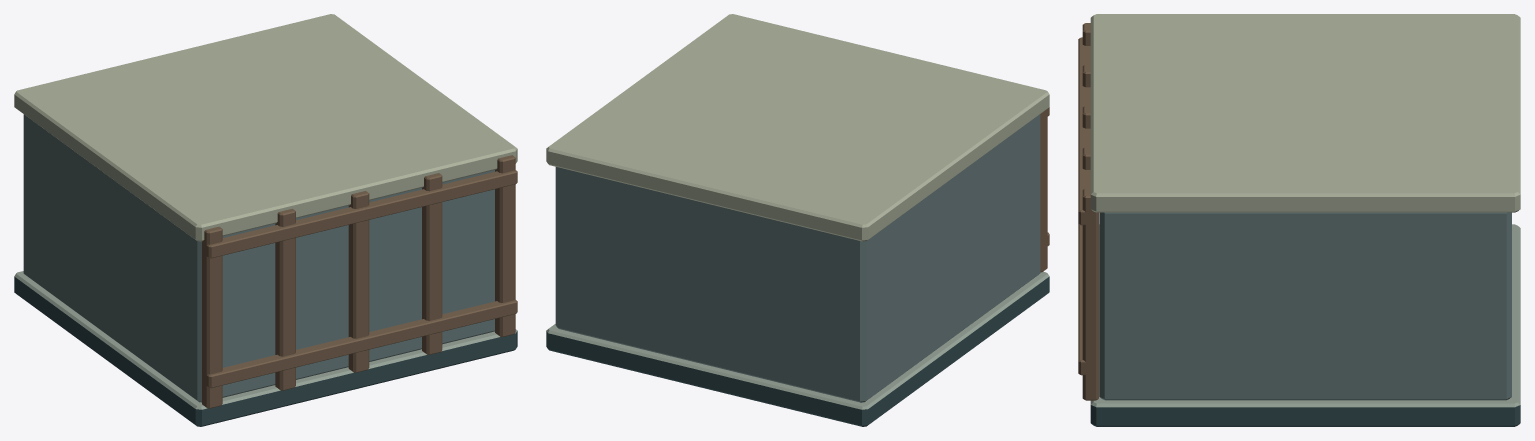
File: platform.glb
3 views of the same model, side by side, from view 1: azimuth 30°, elevation 25°; view 2: azimuth 150°, elevation 25°; view 3: azimuth 270°, elevation 25° (orthographic). The views are drawn at different scales.
Visible parts, largest first — view 1: platform__body; view 2: platform__body; view 3: platform__body.
Boxes of the visible parts, box(x1,y1,x2,y2) form: platform__body: box(14, 14, 517, 426); platform__body: box(546, 14, 1049, 426); platform__body: box(1078, 14, 1520, 426).
Size of the model in its own units: 2 by 1.2 by 2.06.
